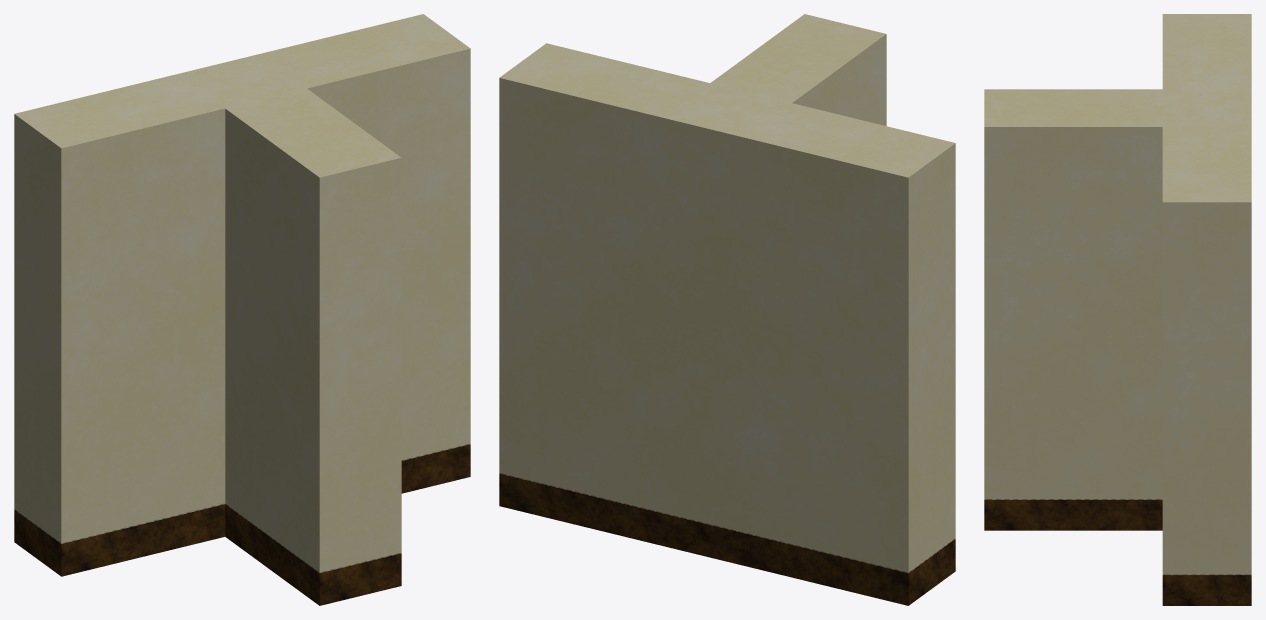
Rendered from murT 1.fbx.
3 views of the same model, side by side, from view 1: azimuth 30°, elevation 25°; view 2: azimuth 150°, elevation 25°; view 3: azimuth 270°, elevation 25° (orthographic). The views are drawn at different scales.
Visible parts, largest first — view 1: murT; view 2: murT; view 3: murT.
Boxes of the visible parts, x1,y1,x2,y2 form: murT: (14,14,470,605); murT: (499,14,955,605); murT: (984,14,1251,605).
Size of the model in its own units: 10 by 10 by 6.
